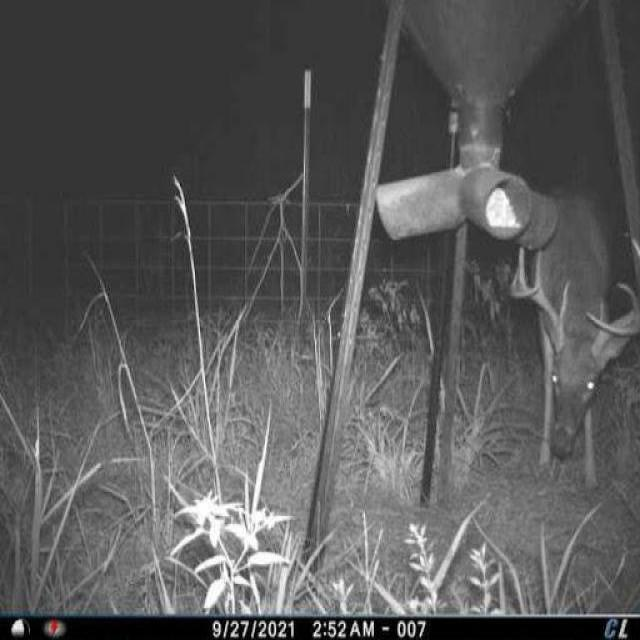deer: (502, 176, 640, 499)
